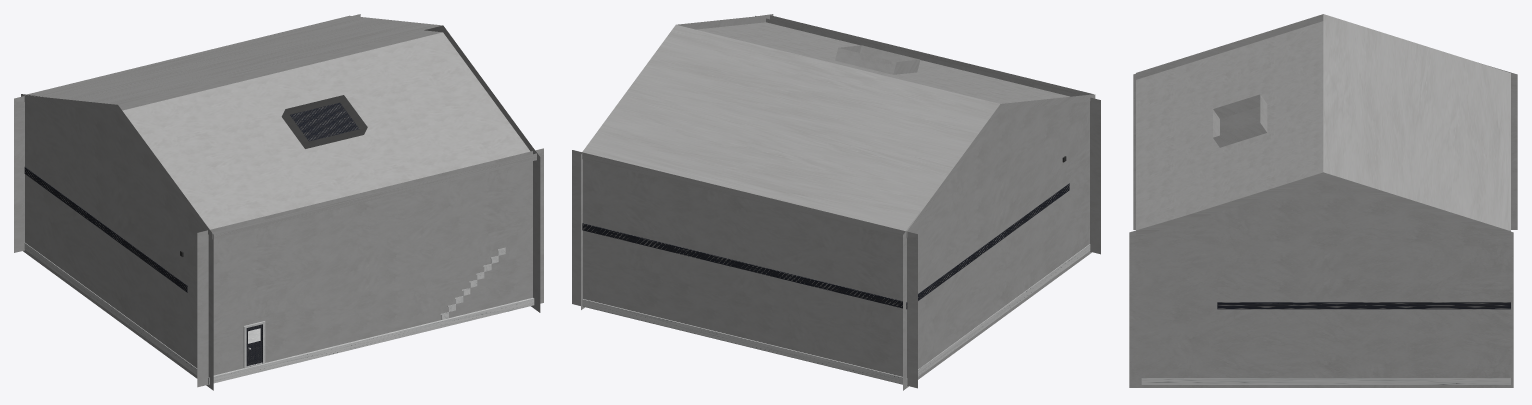
The model's file is museum.fbx.
3 views of the same model, side by side, from view 1: azimuth 30°, elevation 25°; view 2: azimuth 150°, elevation 25°; view 3: azimuth 270°, elevation 25° (orthographic).
Visible parts, largest first — view 1: Cube.004, Plane.001, wall.001, Cube, Cube.002, wall, Plane, door, Stairs; view 2: Cube.004, Plane, wall.001, Cube, Cube.002, Plane.001, wall; view 3: wall, Cube.004, wall.001, Cube, Cube.002.
Part boxes in pixels (left/top/right/bottom): Cube.004: left=24, top=15, right=536, bottom=238; Plane.001: left=197, top=148, right=543, bottom=387; wall.001: left=21, top=94, right=213, bottom=390; Cube: left=24, top=243, right=534, bottom=384; Cube.002: left=24, top=102, right=359, bottom=292; wall: left=424, top=28, right=540, bottom=312; Plane: left=14, top=14, right=360, bottom=252; door: left=246, top=324, right=262, bottom=366; Stairs: left=440, top=247, right=505, bottom=319; Cube.004: left=582, top=15, right=1094, bottom=238; Plane: left=572, top=150, right=917, bottom=388; wall.001: left=903, top=94, right=1095, bottom=390; Cube: left=582, top=244, right=1090, bottom=384; Cube.002: left=582, top=183, right=1069, bottom=309; Plane.001: left=755, top=16, right=1100, bottom=254; wall: left=581, top=14, right=773, bottom=309; wall: left=1129, top=179, right=1513, bottom=387; Cube.004: left=1136, top=14, right=1510, bottom=237; wall.001: left=1133, top=18, right=1517, bottom=229; Cube: left=1141, top=378, right=1510, bottom=384; Cube.002: left=1217, top=302, right=1510, bottom=309.
Size of the model in its own units: 976 by 583 by 949.
